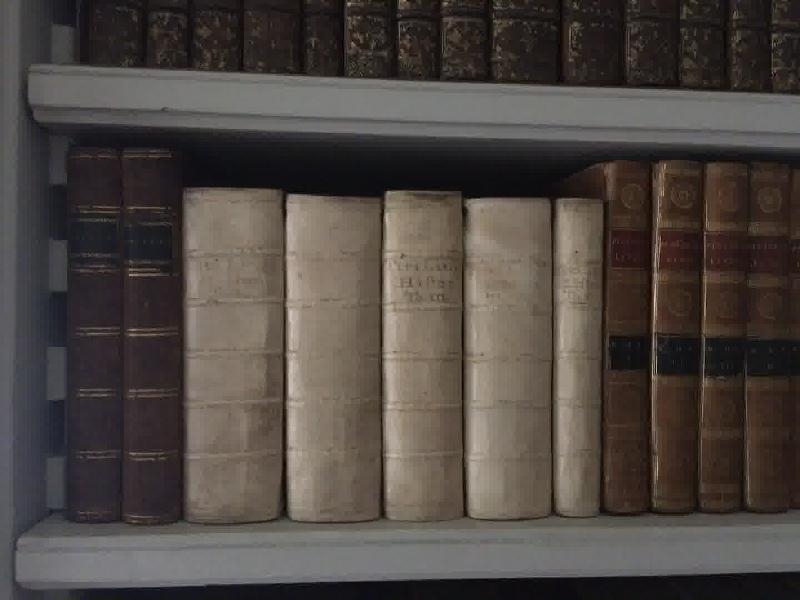Kk4-1_2: (60, 137, 185, 536)
Kk4-3_7: (178, 178, 604, 526)
Kk4-8_13: (597, 152, 800, 520)
